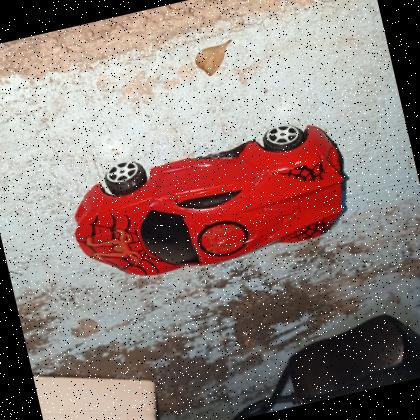Car: (73, 123, 348, 276)
